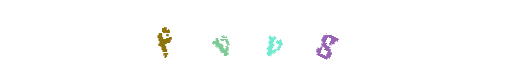F: (124, 0, 204, 80)
G: (286, 0, 366, 80)
V: (201, 0, 281, 80), (220, 0, 300, 80)
